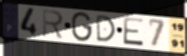4: (18, 6, 40, 39)
7: (147, 18, 168, 49)
D: (95, 14, 117, 43)
E: (122, 16, 146, 48)
G: (71, 11, 94, 43)
R: (41, 8, 65, 40)
